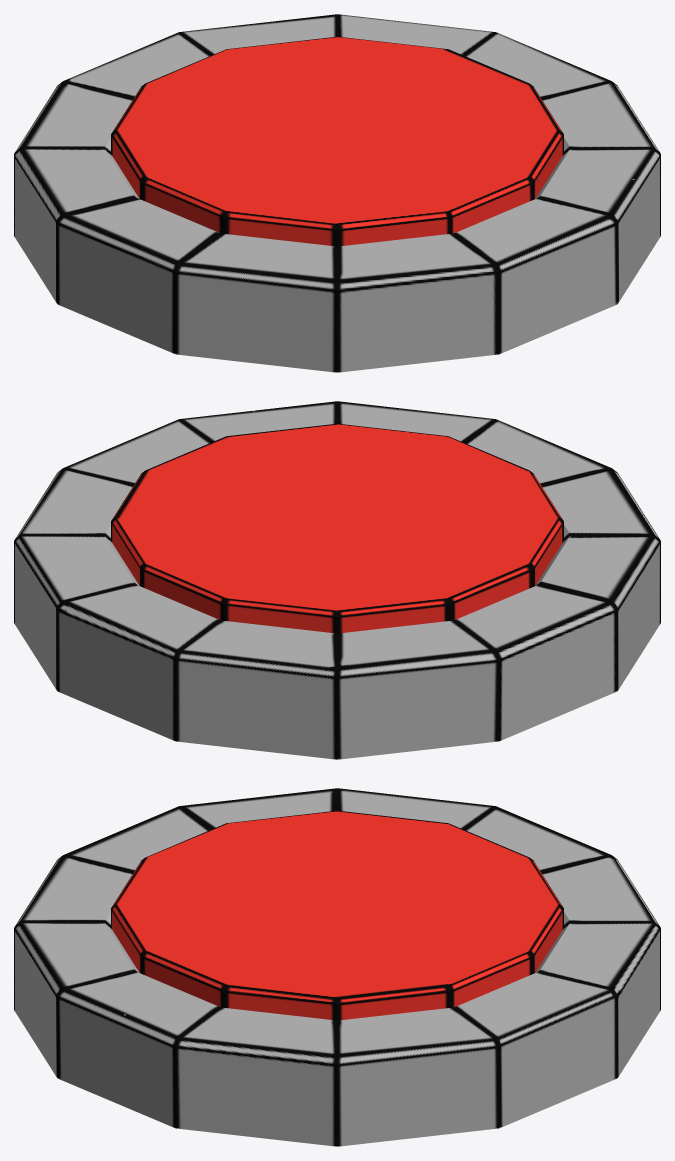
File: AM_Checkpoint.fbx
3 renders of one model, top to bottom at view 1: azimuth 30°, elevation 25°; view 2: azimuth 150°, elevation 25°; view 3: azimuth 270°, elevation 25°, orthographic.
Visible parts, largest first — view 1: Checkpoint_Hülle, Checkpoint_Knopf; view 2: Checkpoint_Hülle, Checkpoint_Knopf; view 3: Checkpoint_Hülle, Checkpoint_Knopf.
Part boxes in pixels (x1=…): Checkpoint_Hülle: x1=14, y1=14, x2=660, y2=372; Checkpoint_Knopf: x1=111, y1=36, x2=563, y2=246; Checkpoint_Hülle: x1=14, y1=401, x2=660, y2=759; Checkpoint_Knopf: x1=111, y1=423, x2=563, y2=633; Checkpoint_Hülle: x1=14, y1=788, x2=660, y2=1146; Checkpoint_Knopf: x1=111, y1=810, x2=563, y2=1020.
Size of the model in its own units: 200 by 36 by 200.
